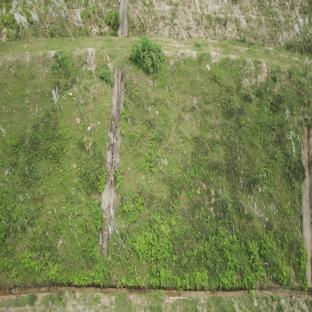slope_drain: (93, 68, 126, 261), (303, 125, 312, 285)
toe_drain: (1, 283, 312, 297)
vegetation: (128, 214, 278, 295)
